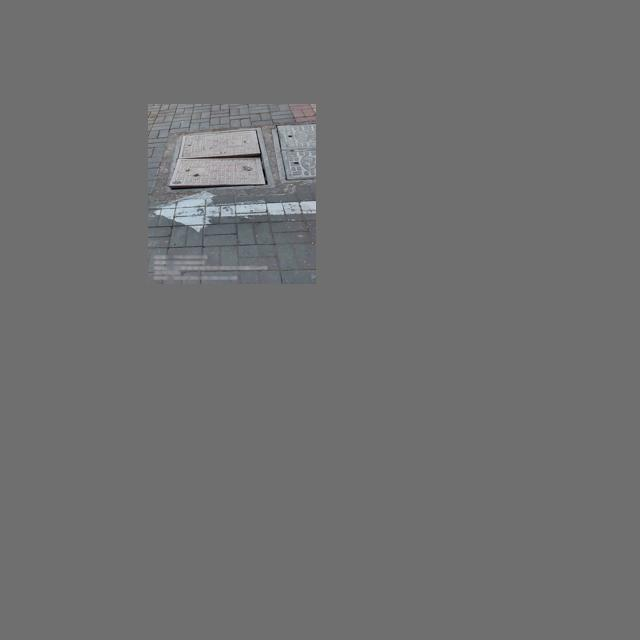good: (270, 121, 314, 183)
uncovered: (165, 127, 275, 191)
